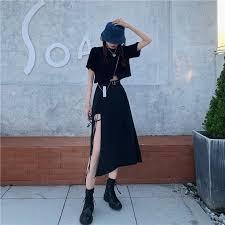Tshirt: (83, 42, 150, 86)
skirt: (78, 81, 144, 180)
